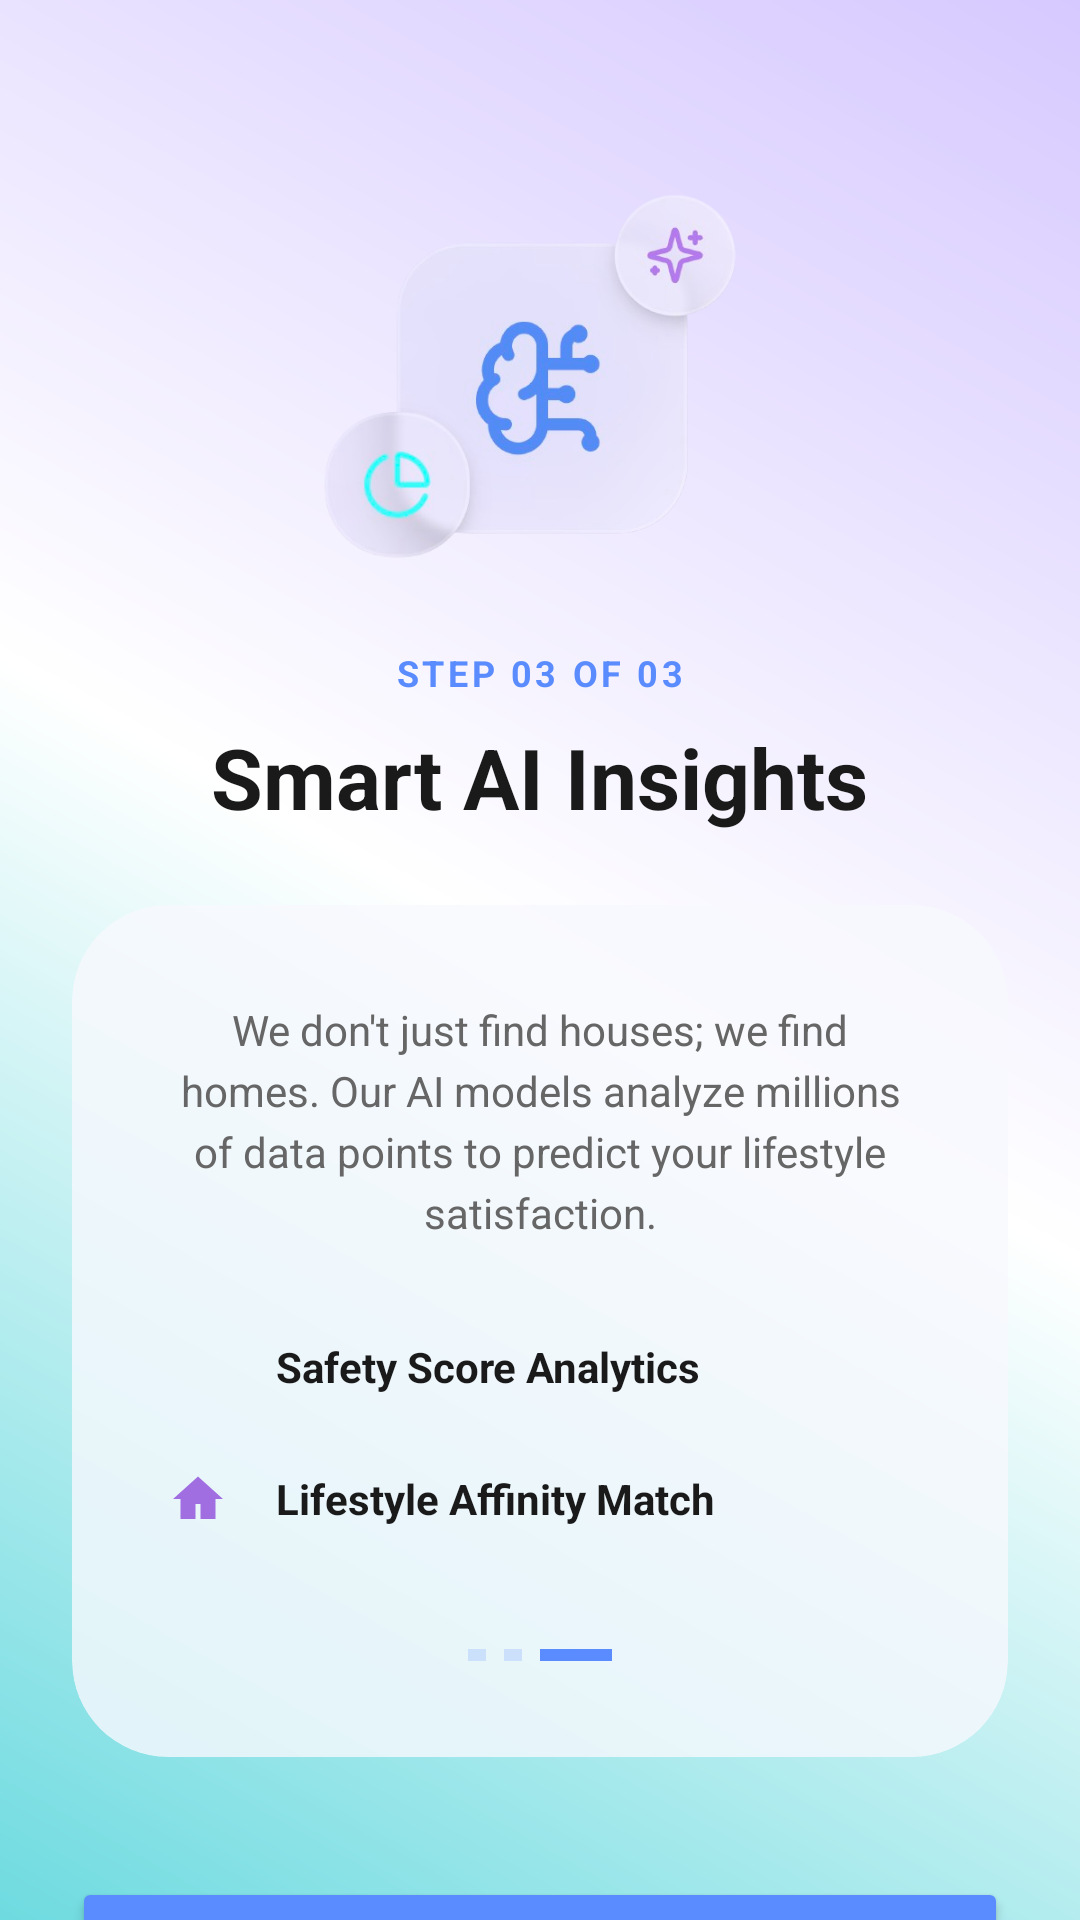

Point at icon controls on the screen. Image size 1080 x 1920, points as (x=x, y=y).
house: (x=198, y=1498)
